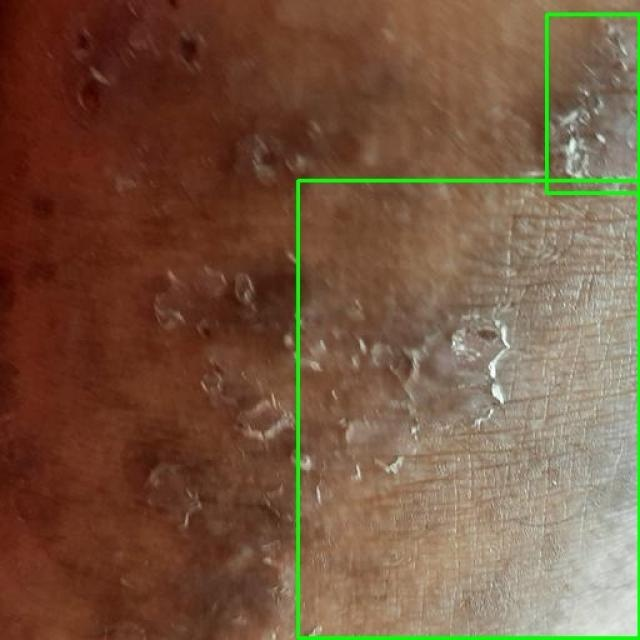Tinea Corporis: (298, 181, 639, 639), (546, 14, 639, 192)
